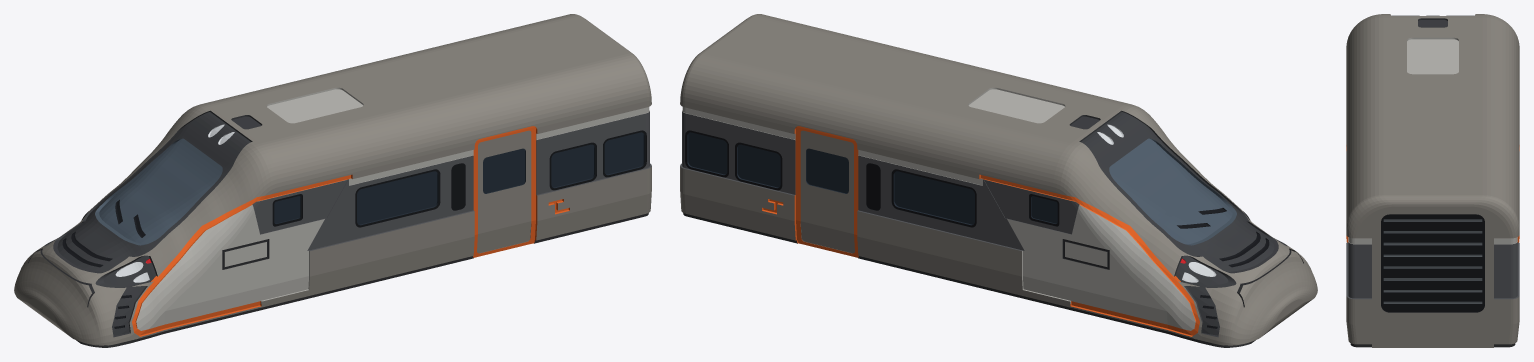
File: flytoget.glb
3 renders of one model, left to right at view 1: azimuth 30°, elevation 25°; view 2: azimuth 150°, elevation 25°; view 3: azimuth 270°, elevation 25°, orthographic.
Parts seen in each view (by area): view 1: flytoget_flytoget; view 2: flytoget_flytoget; view 3: flytoget_flytoget.
Boxes of the visible parts, x1,y1,x2,y2 form: flytoget_flytoget: [14, 14, 651, 347]; flytoget_flytoget: [680, 14, 1317, 347]; flytoget_flytoget: [1346, 14, 1519, 347].
Bounding box in the file's own units: 150 × 38 × 40.
